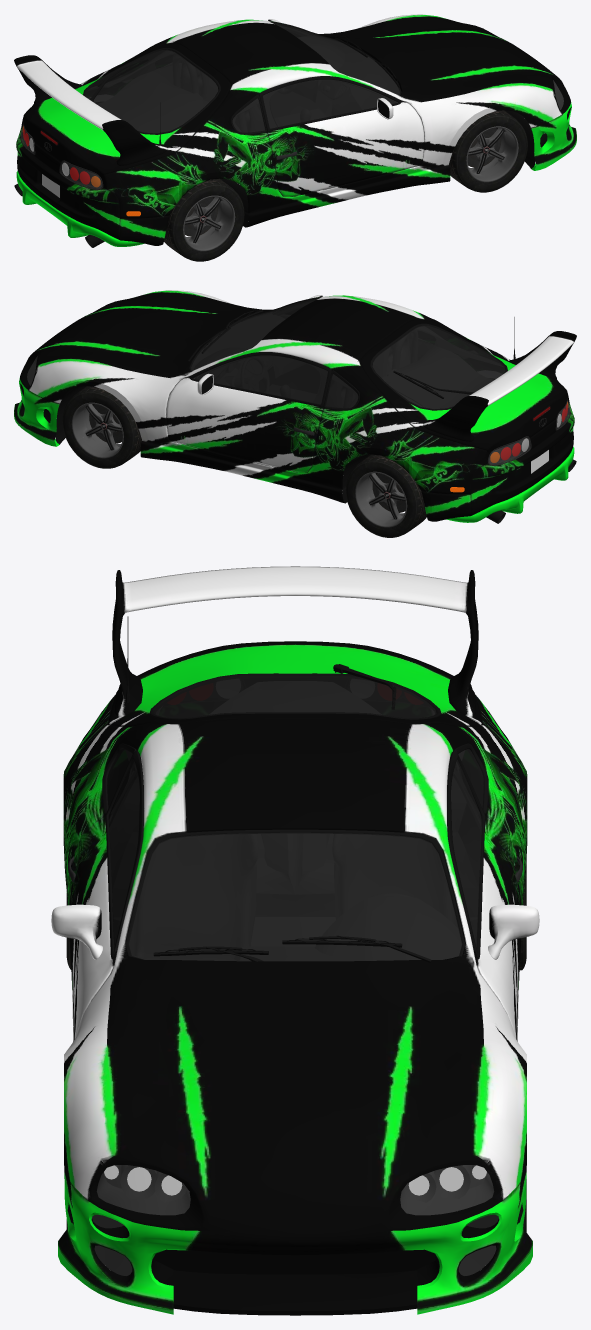
Rendered from toyota__supra.glb.
The picture shows the model from 3 angles, top to bottom: view 1: azimuth 30°, elevation 25°; view 2: azimuth 150°, elevation 25°; view 3: azimuth 270°, elevation 25°; orthographic projection. The views are drawn at different scales.
Parts seen in each view (by area): view 1: CarPaint, Body, W4, W2, Props, LightsMesh; view 2: CarPaint, Body, W3, W1, Props, LightsMesh; view 3: CarPaint, Body, Props.
Part boxes in pixels (box(x1,y1,x2,y2)): CarPaint: box(14, 14, 576, 246); Body: box(14, 20, 563, 247); W4: box(164, 178, 244, 261); W2: box(449, 110, 527, 192); Props: box(40, 35, 399, 197); LightsMesh: box(22, 126, 100, 187); CarPaint: box(14, 290, 576, 522); Body: box(27, 296, 576, 523); W3: box(345, 454, 426, 537); W1: box(62, 386, 141, 468); Props: box(188, 310, 550, 473); LightsMesh: box(490, 402, 568, 462); CarPaint: box(51, 566, 539, 1315); Body: box(67, 673, 523, 1275); Props: box(126, 616, 431, 962).
Bounding box in the file's own units: 466 × 138 × 195.
10 materials, 3 textured.
